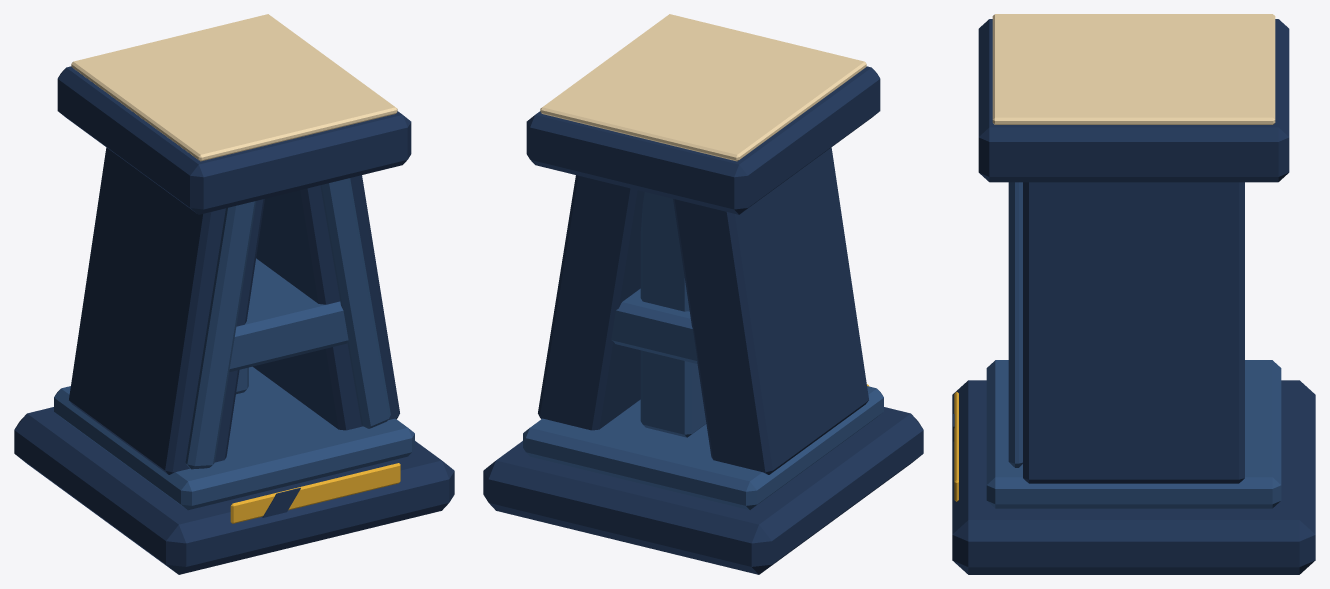
File: launch_pier.glb
3 renders of one model, left to right at view 1: azimuth 30°, elevation 25°; view 2: azimuth 150°, elevation 25°; view 3: azimuth 270°, elevation 25°, orthographic. The views are drawn at different scales.
Visible parts, largest first — view 1: LaunchPierMesh; view 2: LaunchPierMesh; view 3: LaunchPierMesh.
Part boxes in pixels (left/top/right/bottom): LaunchPierMesh: left=14, top=14, right=454, bottom=574; LaunchPierMesh: left=483, top=14, right=923, bottom=574; LaunchPierMesh: left=952, top=14, right=1315, bottom=574.
Size of the model in its own units: 0.9 by 1.2 by 0.9.
